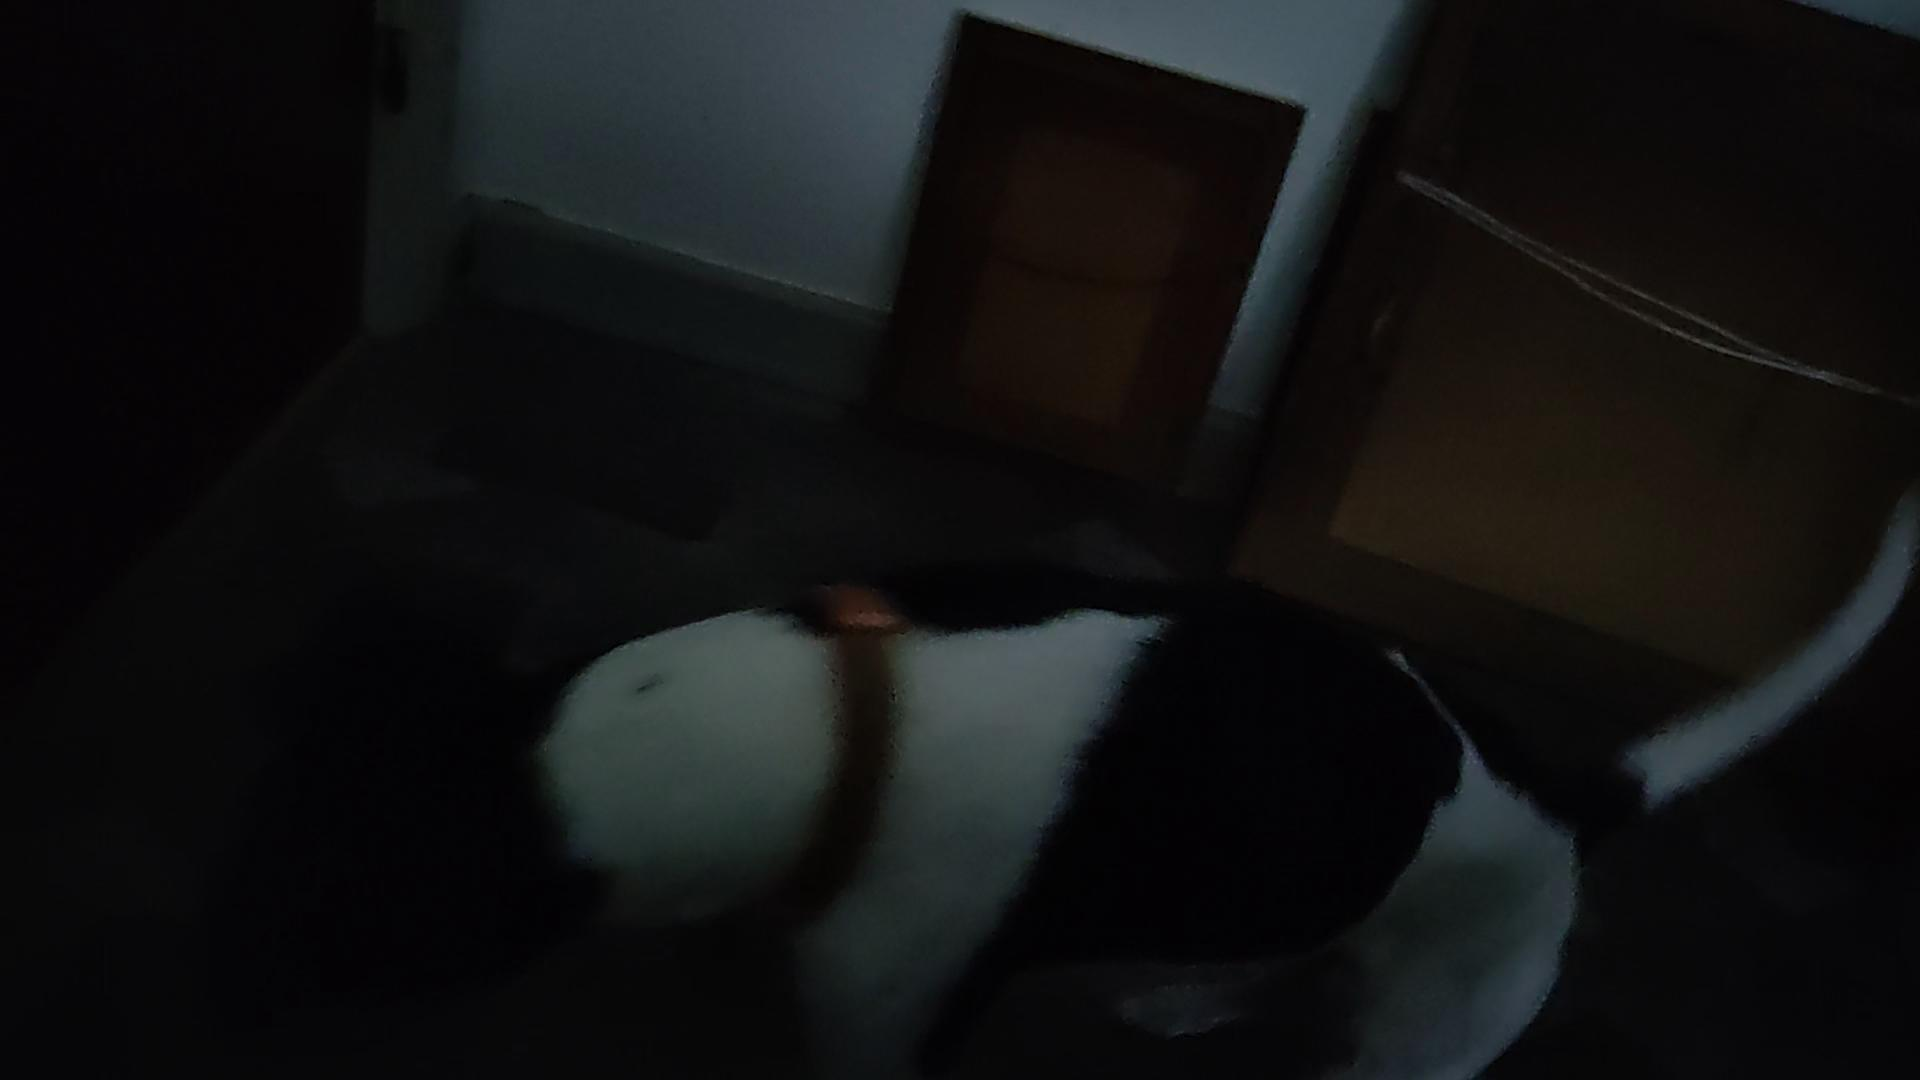Dog: (239, 473, 1919, 1079)
